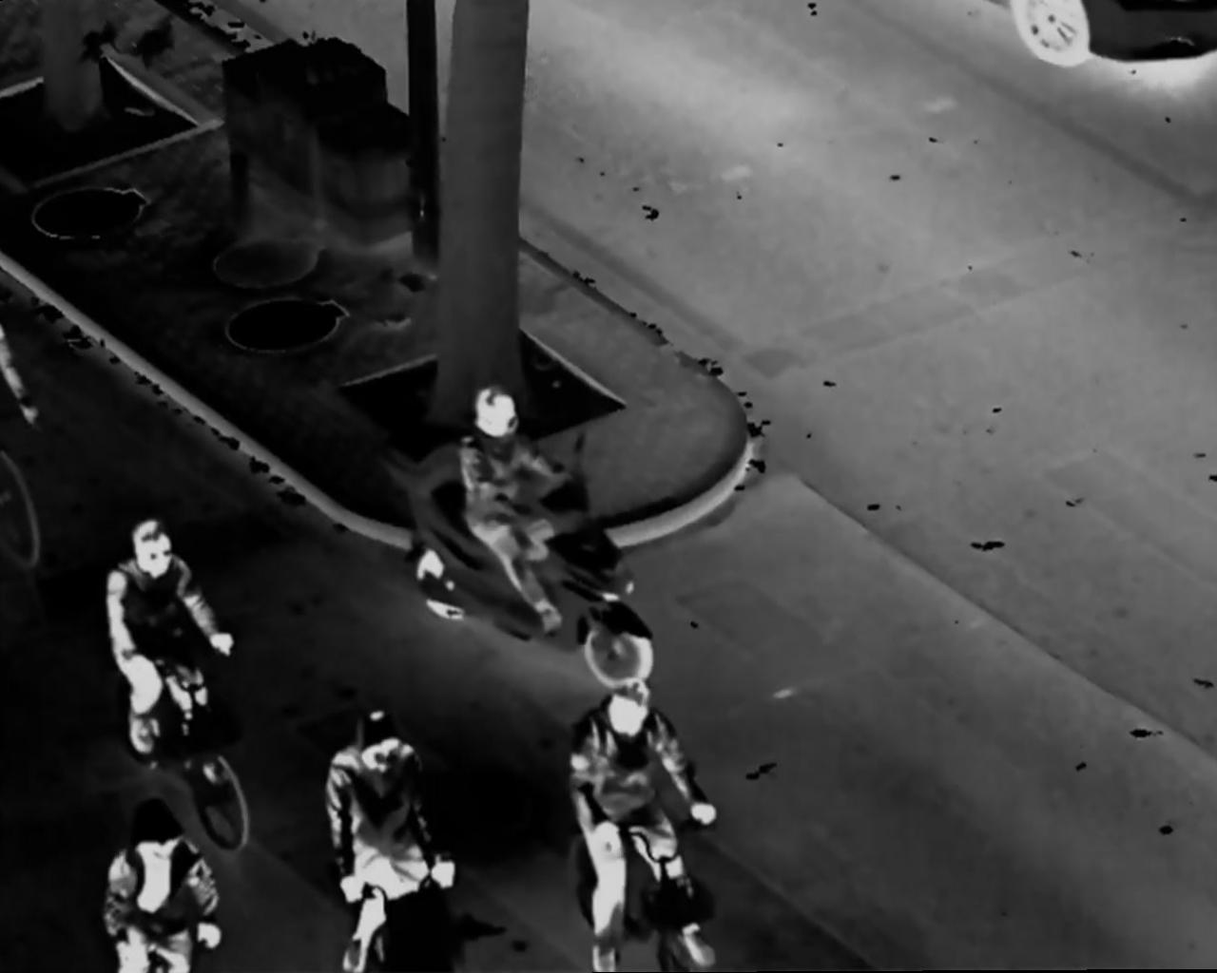person: (564, 672, 720, 973), (317, 703, 456, 973), (99, 513, 242, 766), (457, 383, 589, 632), (94, 798, 225, 973)
